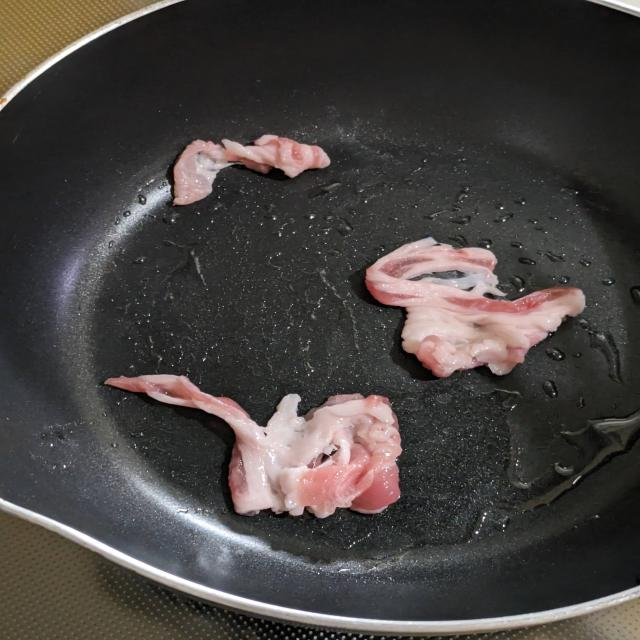NG raw pork,: (86, 367, 414, 525), (358, 229, 600, 385), (167, 130, 338, 212)
